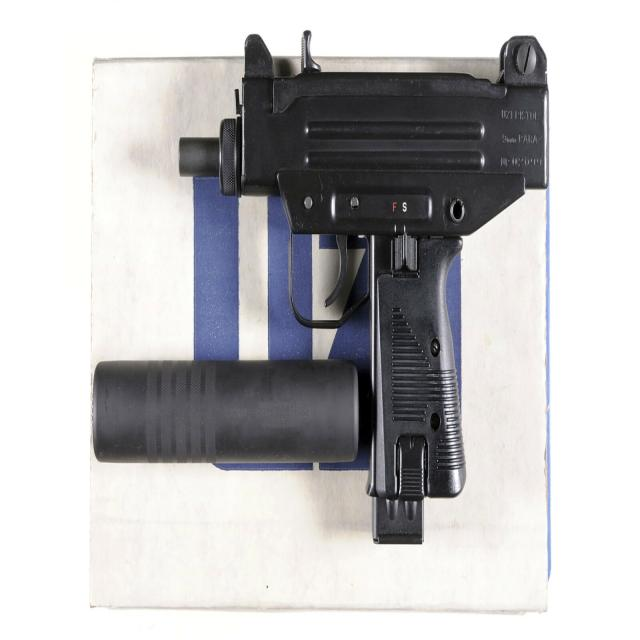SMG: (178, 31, 549, 547)
